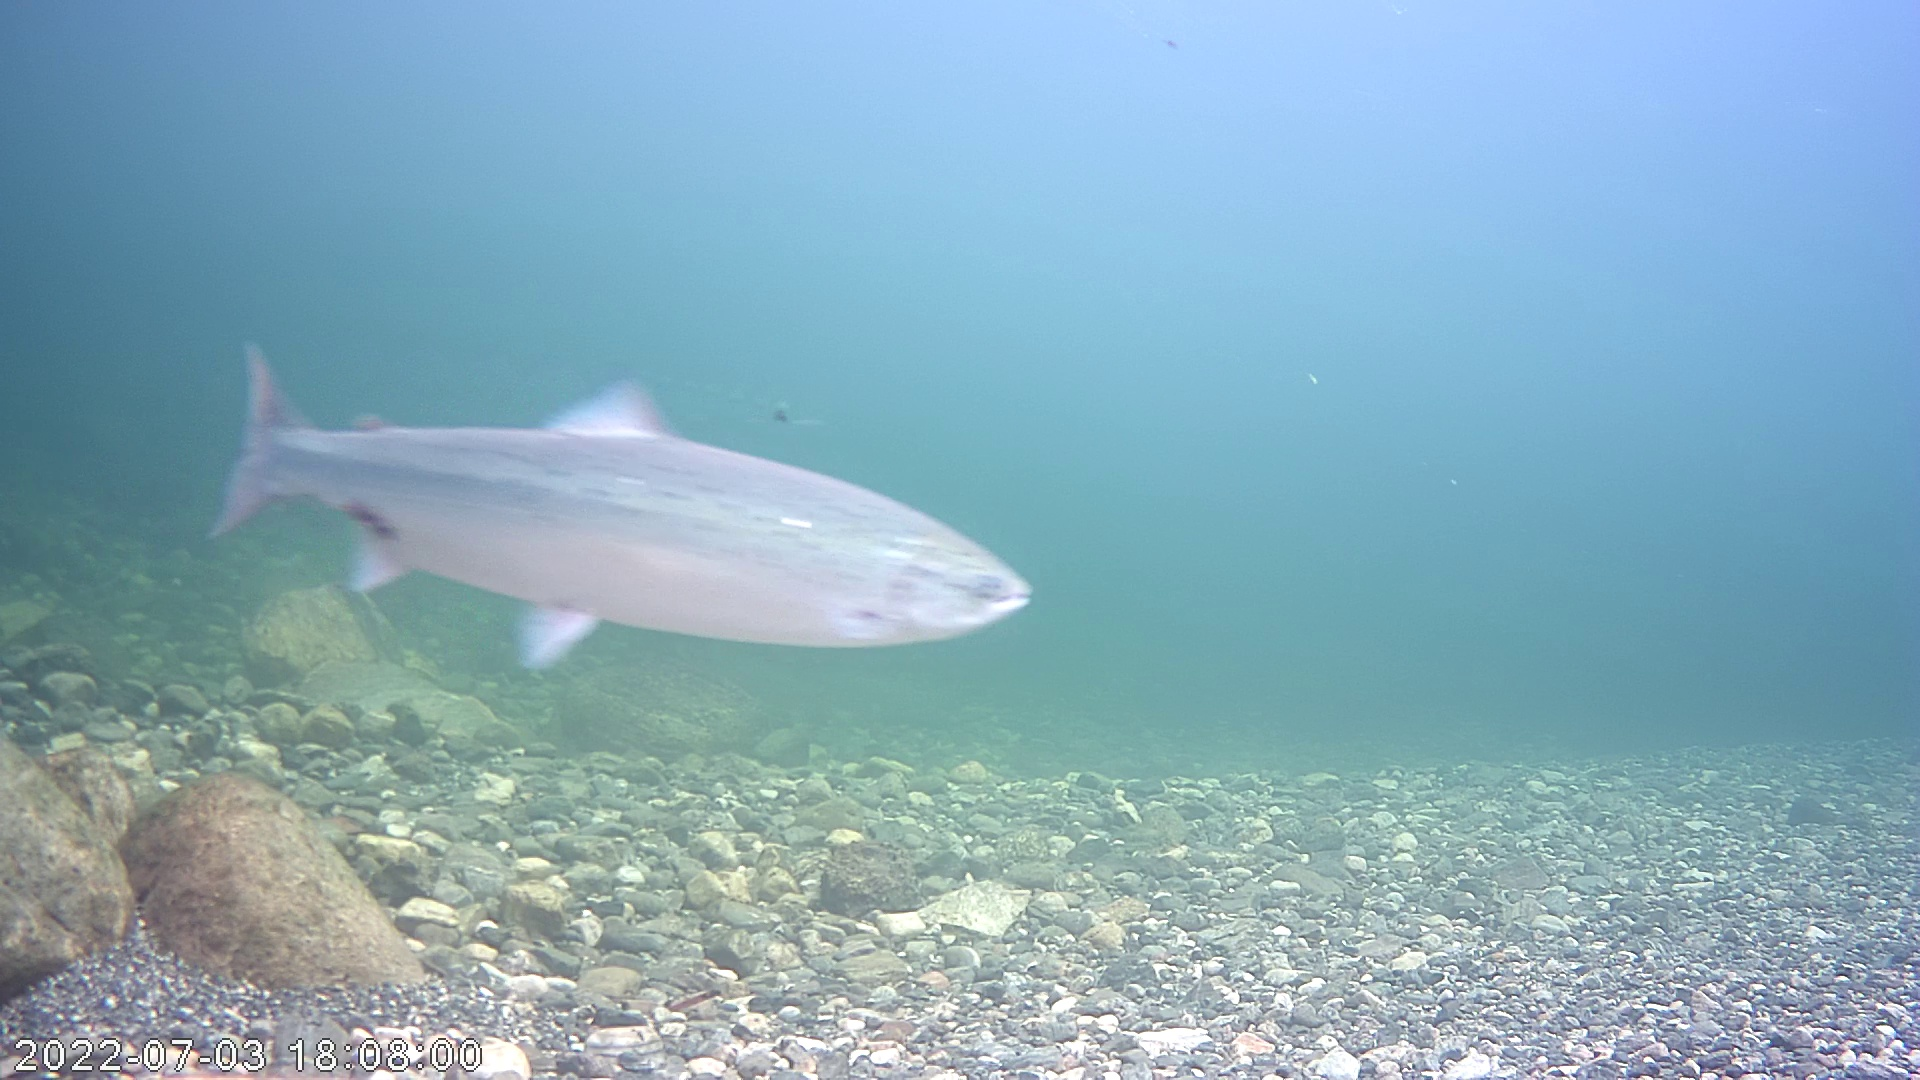salmon: (204, 338, 1039, 675)
